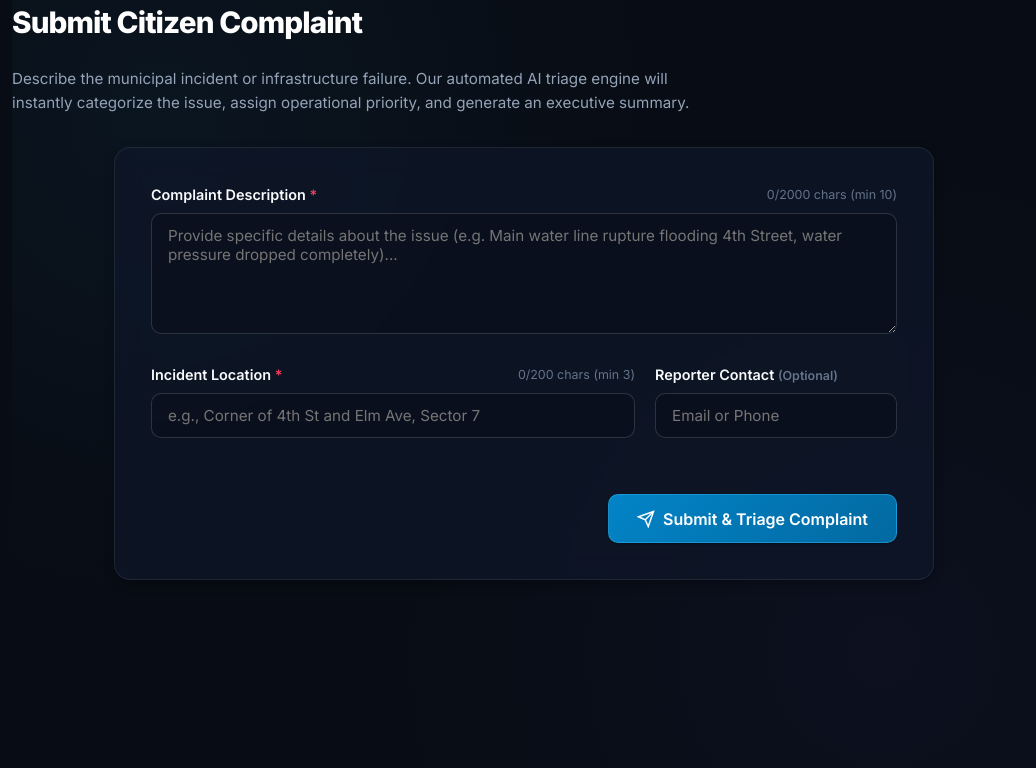
Test case: SubmitPage Component › displays triage outcome results upon successful submission
This screenshot has width=1036, height=768.
Step 1. Replace the text in the text box labelled "Complaint Description *" with "Water line broken on 4th street flooding entire intersection" → (524, 274), box [151, 213, 897, 334]
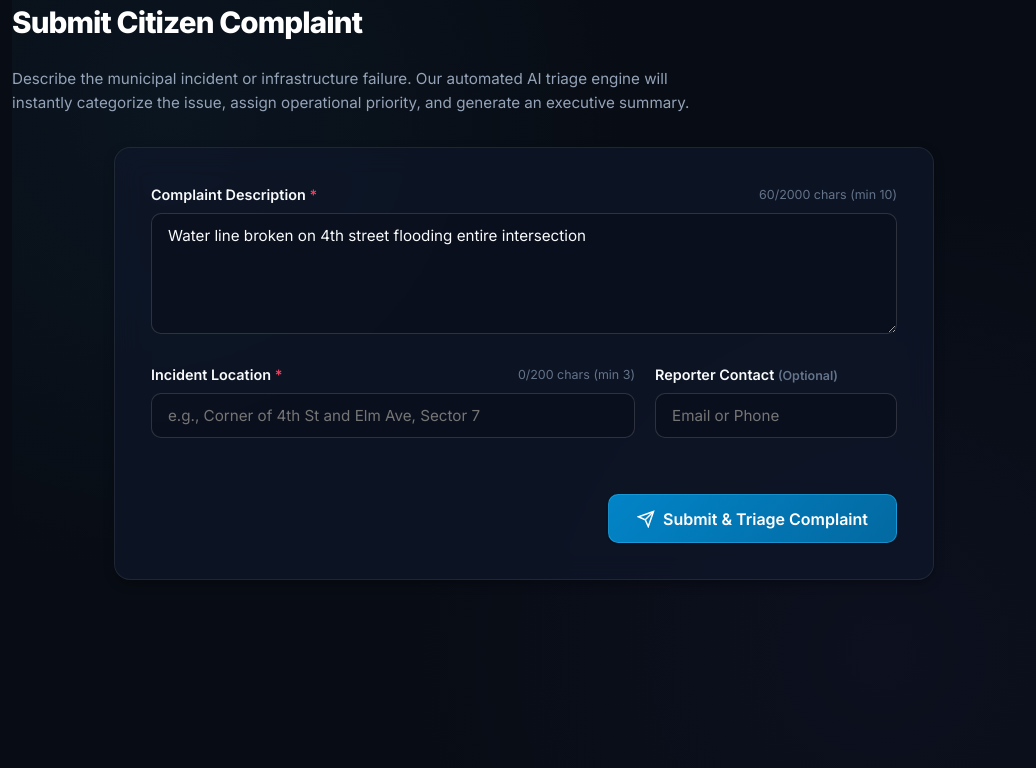
Step 2. Type "4th Street & Main Ave" into the field labelled "Incident Location *" → (393, 416), box [151, 393, 635, 438]
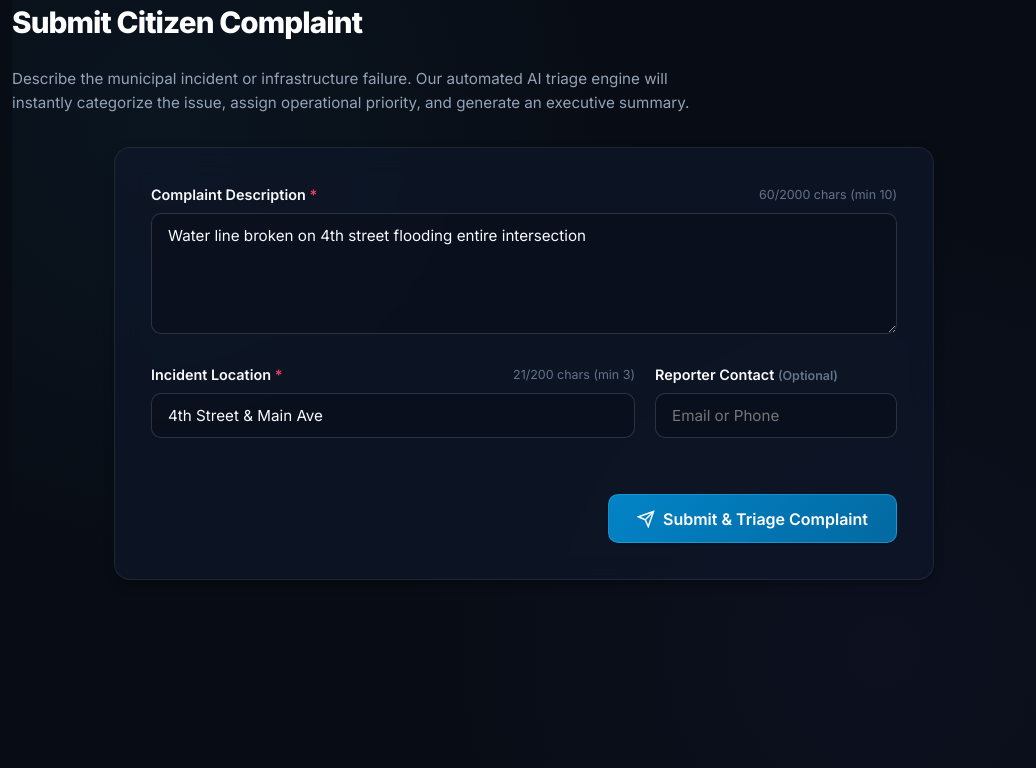
Step 3. Click the button "Submit & Triage Complaint" → (752, 519), box [608, 494, 897, 543]
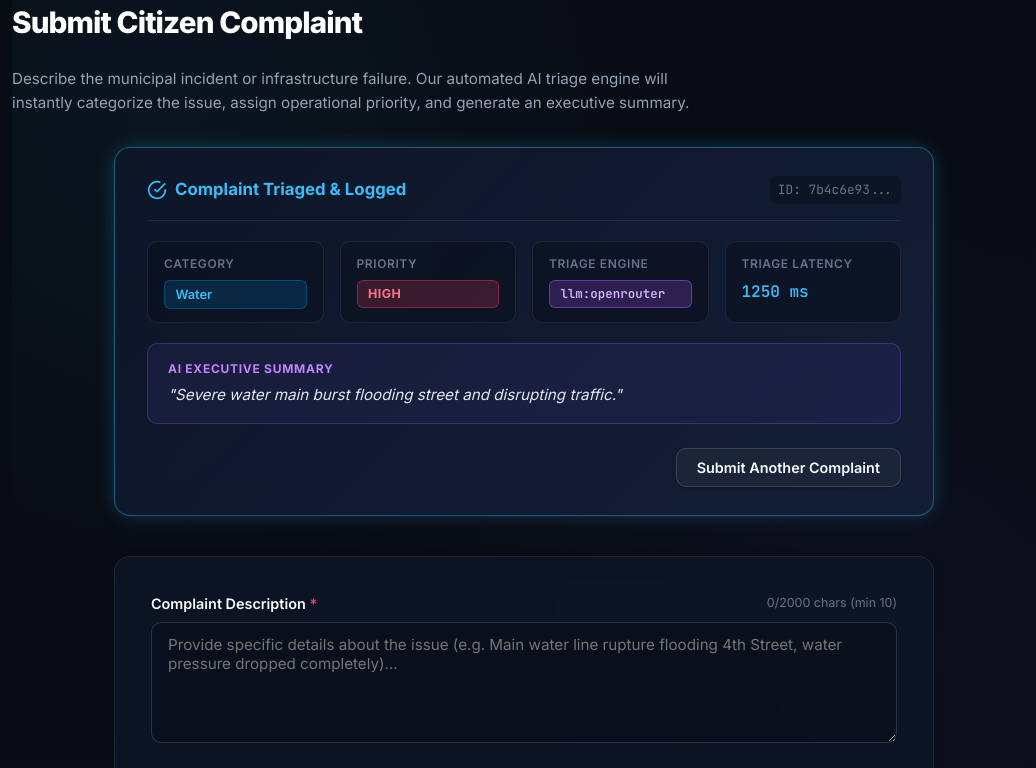
Result: the element with test id "triage-result" is shown at [114, 147, 934, 516]
Result: the text "Complaint Triaged & Logged" is shown at [147, 177, 406, 203]
Result: the text "water" is shown at [164, 280, 306, 309]
